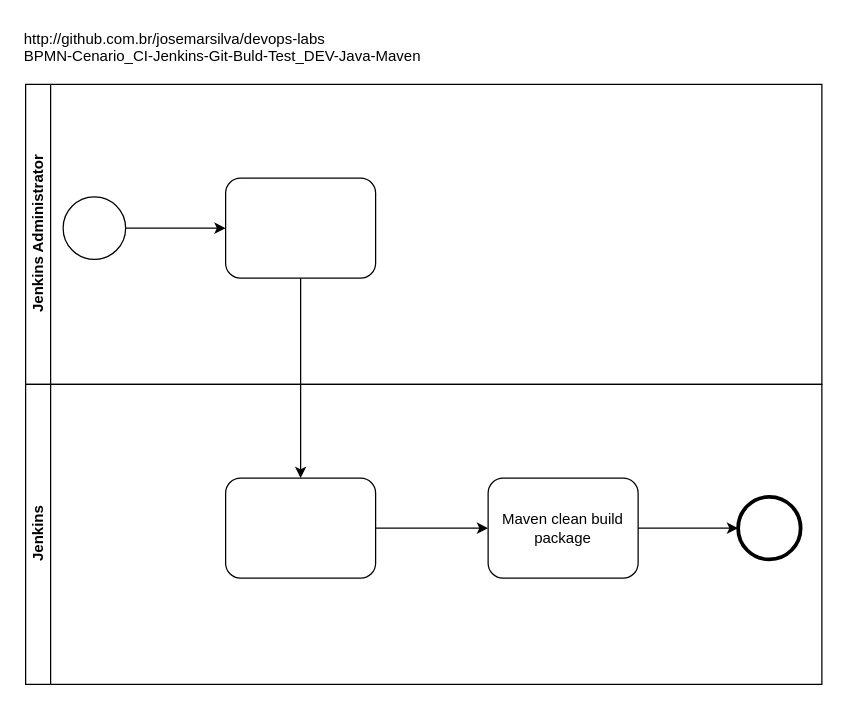
Some shapes in this 844 by 706 pixel diagram are drawn without their labels. Here are the shapes that lost their labels. From the top down, the centre of each, then its label:
the point at 300,227: Executa Job do Jenkins
the point at 300,527: Git Pull
